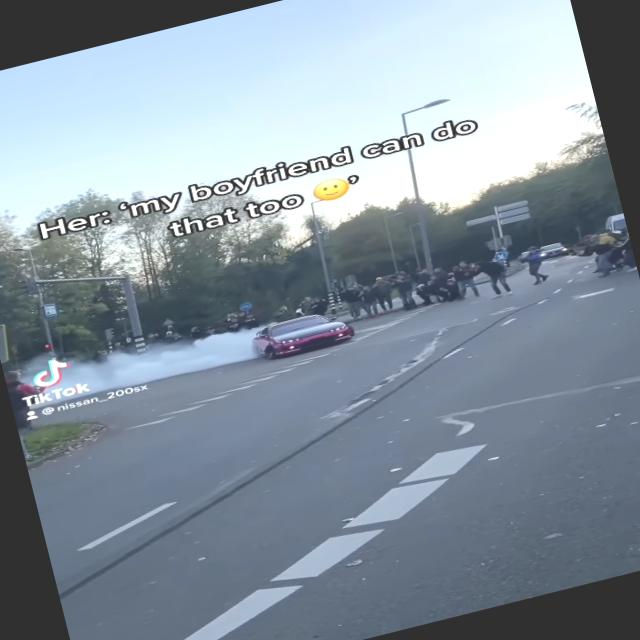car: (253, 303, 357, 369)
